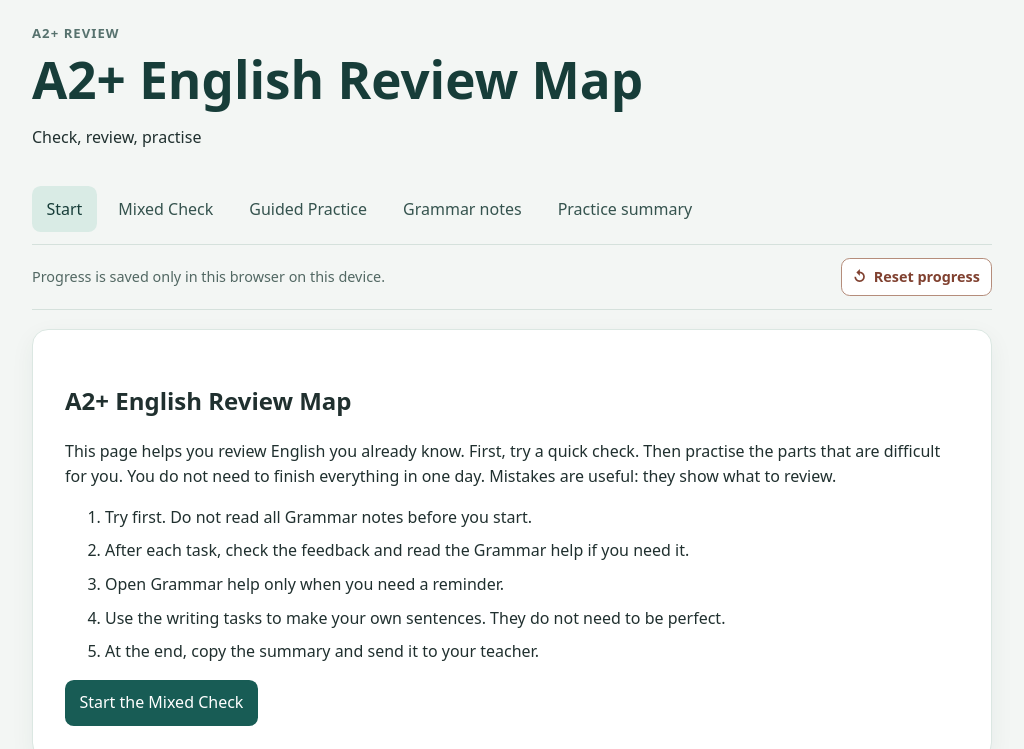
Test: offers repair before revealing an incorrect answer
Step 1. Click the button "Mixed Check" → (166, 209), box x1=104 y1=186 x2=228 y2=232
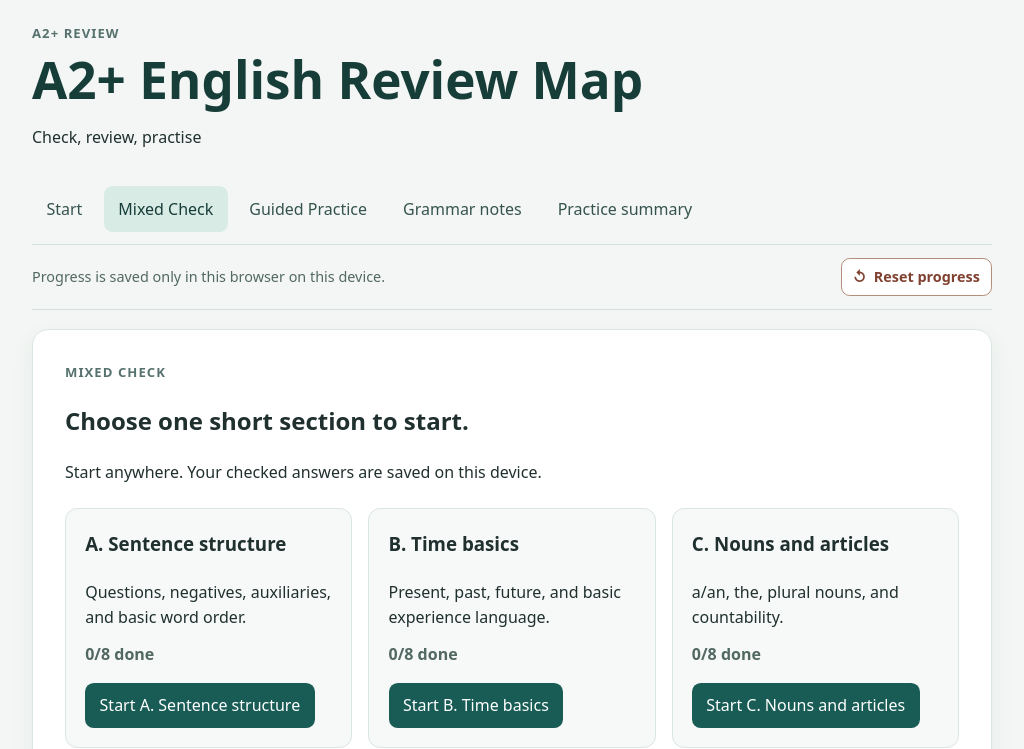
Step 2. Click the button "Start A. Sentence structure" → (200, 705), box x1=85 y1=683 x2=315 y2=728
(page scrolled)
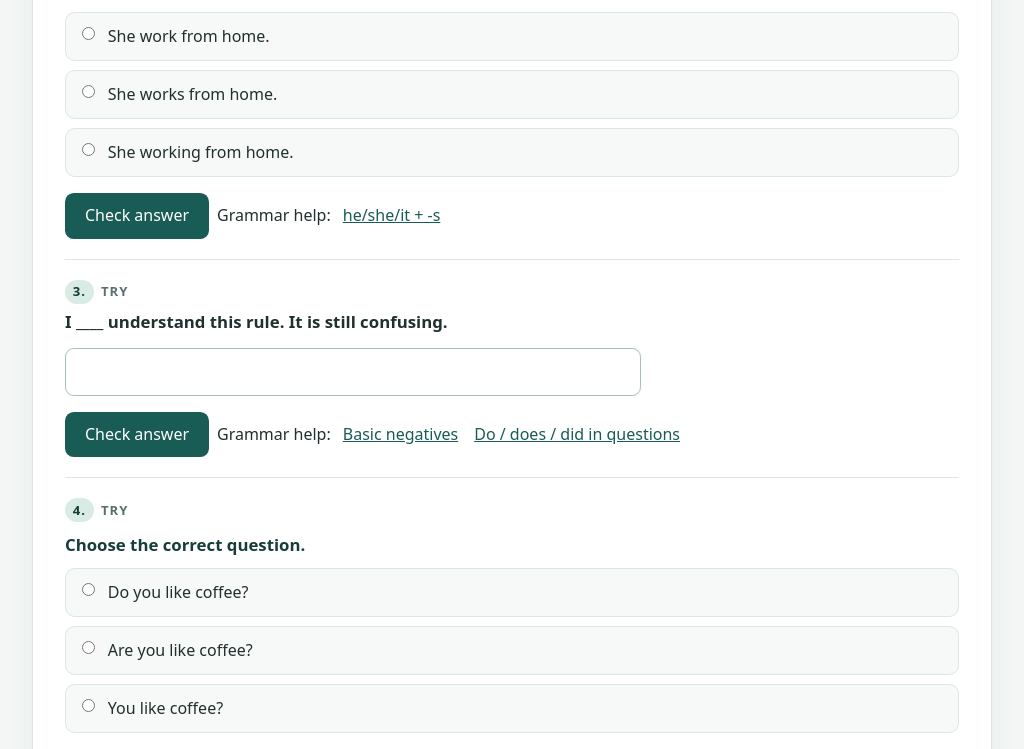
Step 3. Type "do" into the field named "Answer for d-se-03" → (353, 372), box x1=65 y1=348 x2=641 y2=396
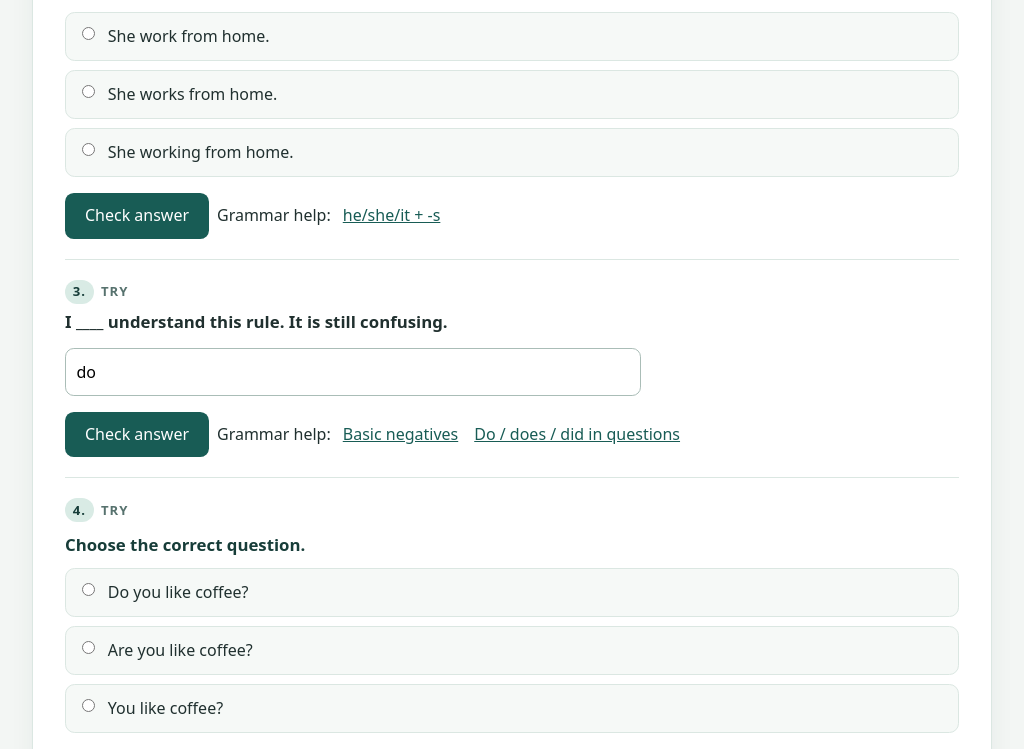
Step 4. Click the 2nd button "Check answer" → (137, 434), box x1=65 y1=412 x2=209 y2=457
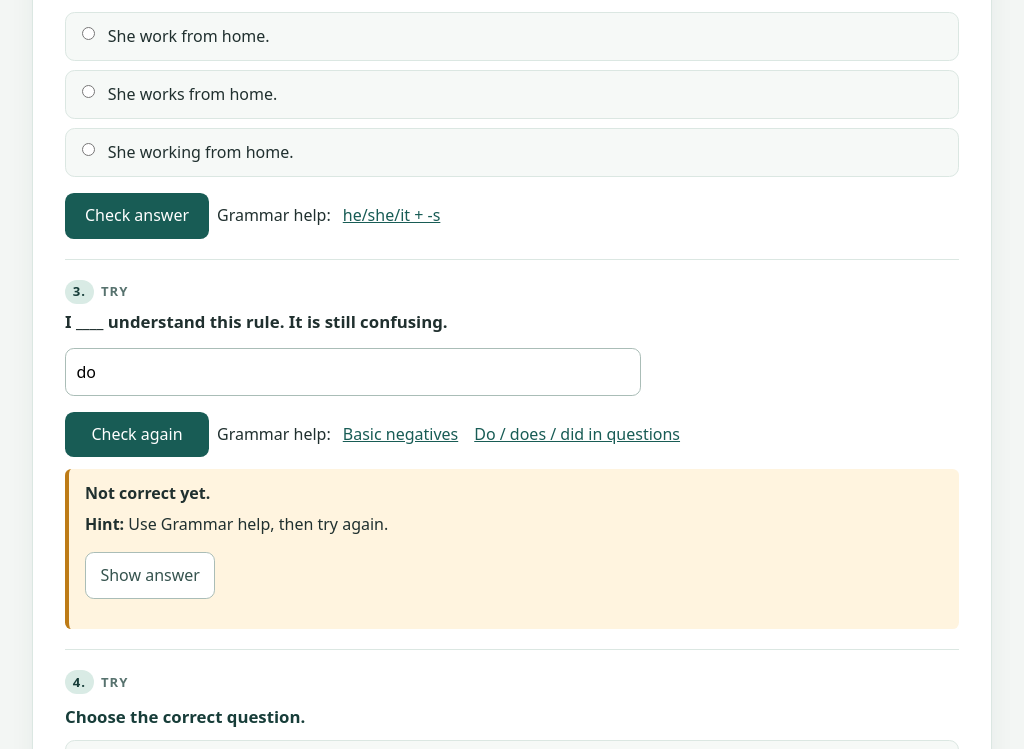
Expected: the text "Not correct yet." is shown, x1=85 y1=482 x2=210 y2=504
Expected: the text "Hint:" is shown, x1=85 y1=513 x2=124 y2=535
Expected: the text "Use Grammar help, then try again." is shown, x1=124 y1=513 x2=388 y2=535
Step 5. Click the button "Show answer" → (150, 575), box x1=85 y1=552 x2=215 y2=599
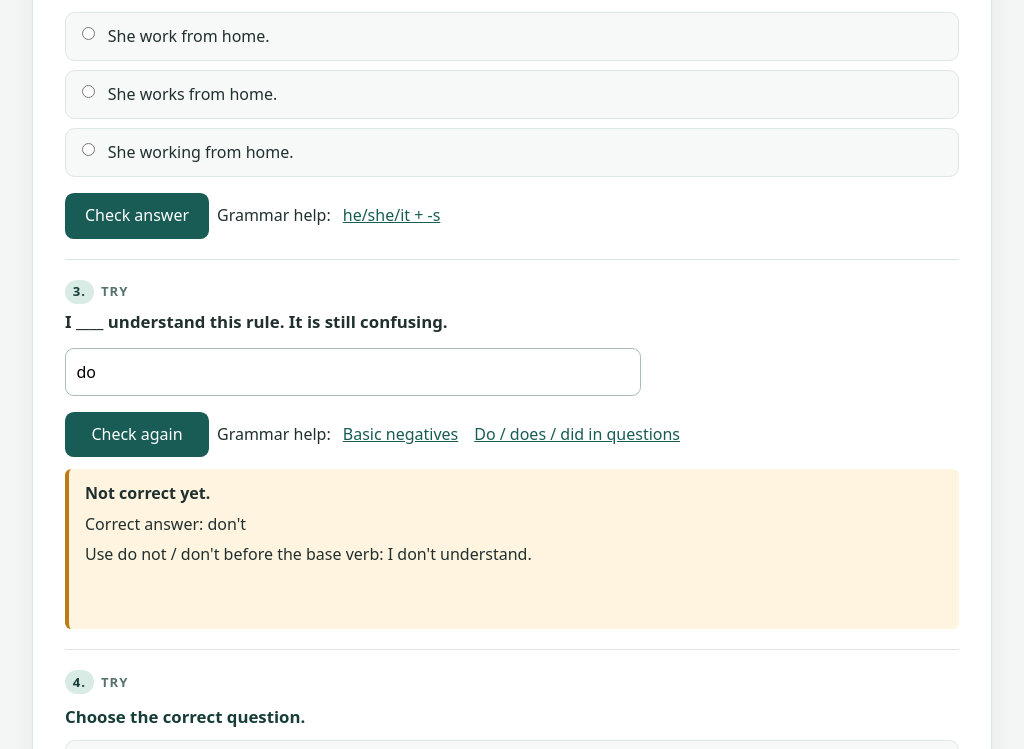
Expected: the text "Correct answer: don't" is shown, x1=65 y1=258 x2=959 y2=629
Expected: the text "Use do not / don't before the base verb" is shown, x1=85 y1=543 x2=532 y2=565
